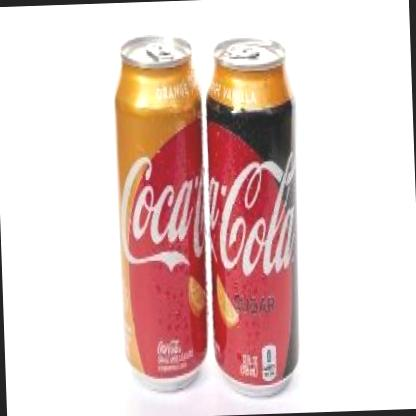alumunium_can: (200, 33, 306, 400), (110, 30, 214, 395)
